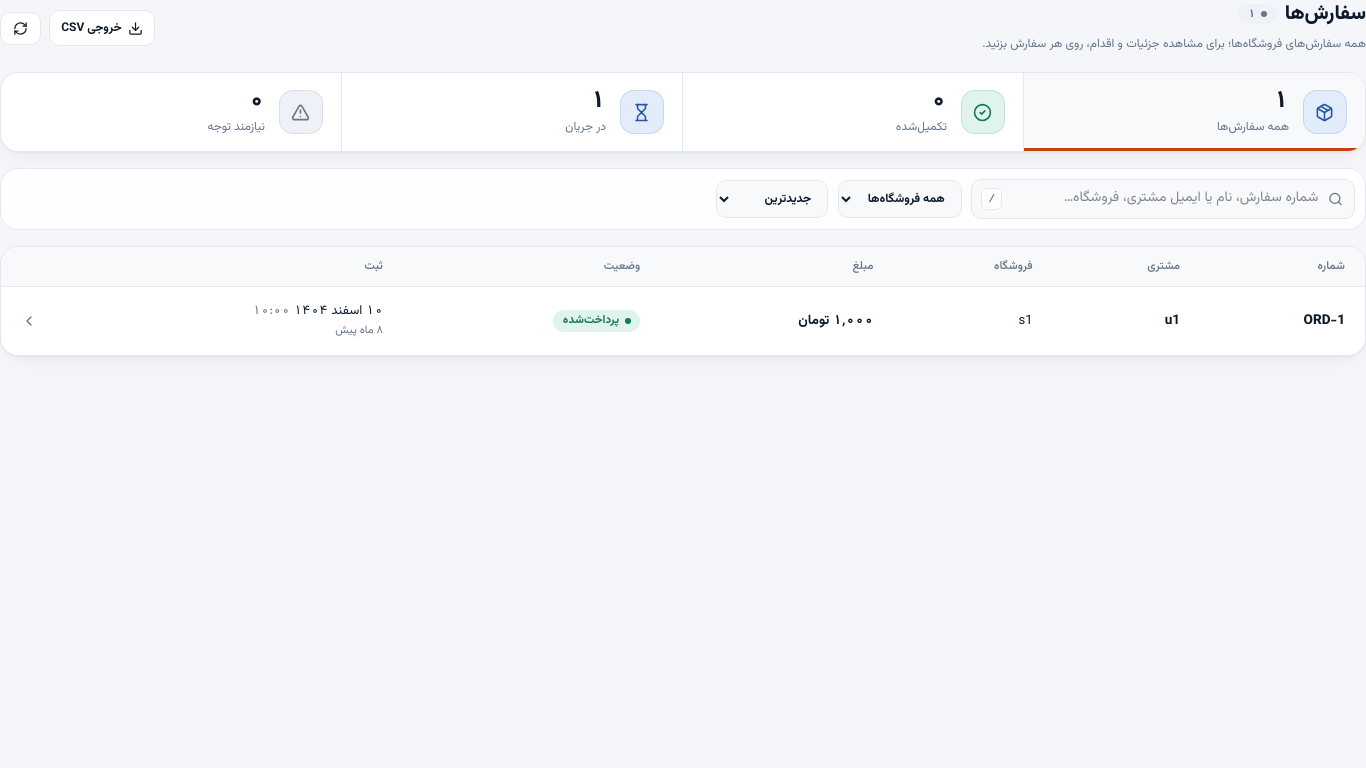
Test: OrderFlow (order lifecycle tracker) › appears in the order drawer
The width and height of the screenshot is (1366, 768).
Click the text "ORD-1" at (1324, 321), box 1304,311 -> 1345,331
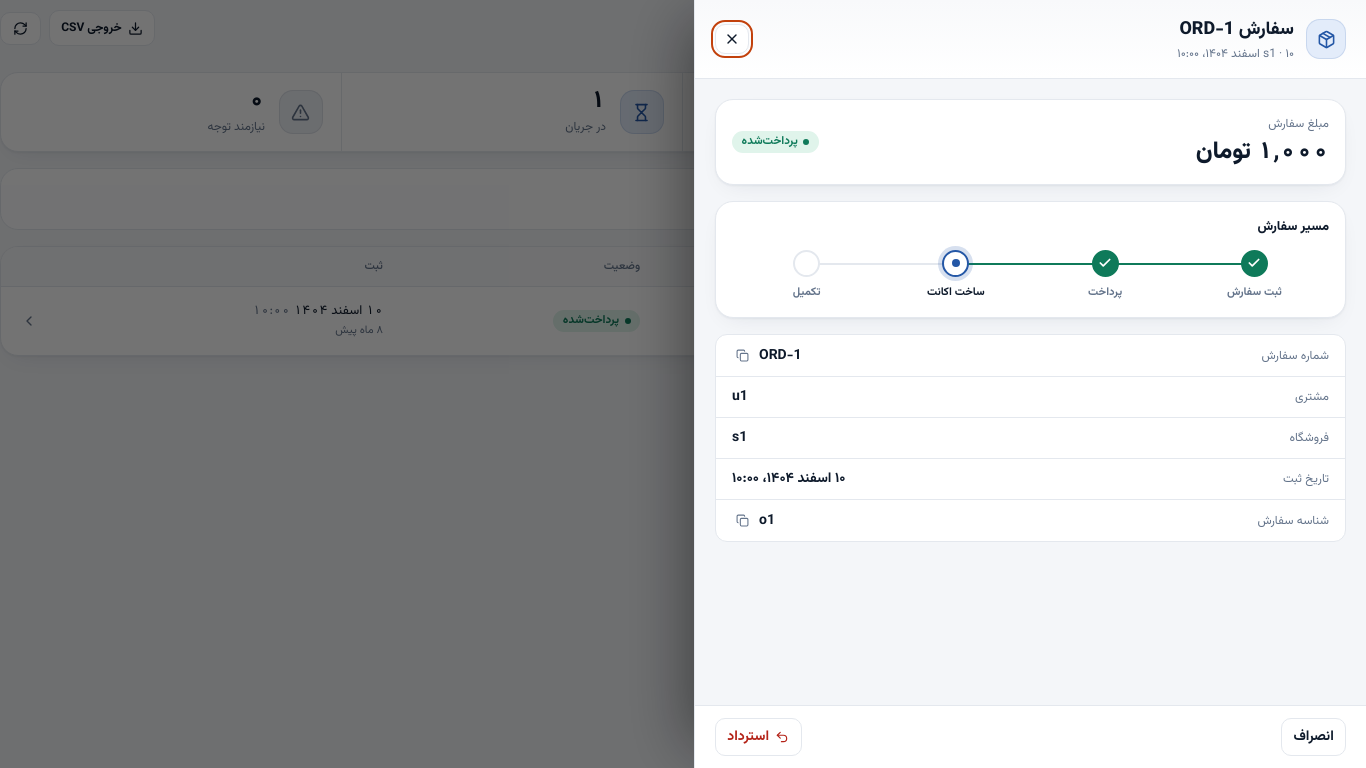
Expected: the heading "مسیر سفارش" is shown, 1257,217 -> 1329,237
Expected: the list named "مراحل سفارش" is shown, 793,250 -> 1282,301
